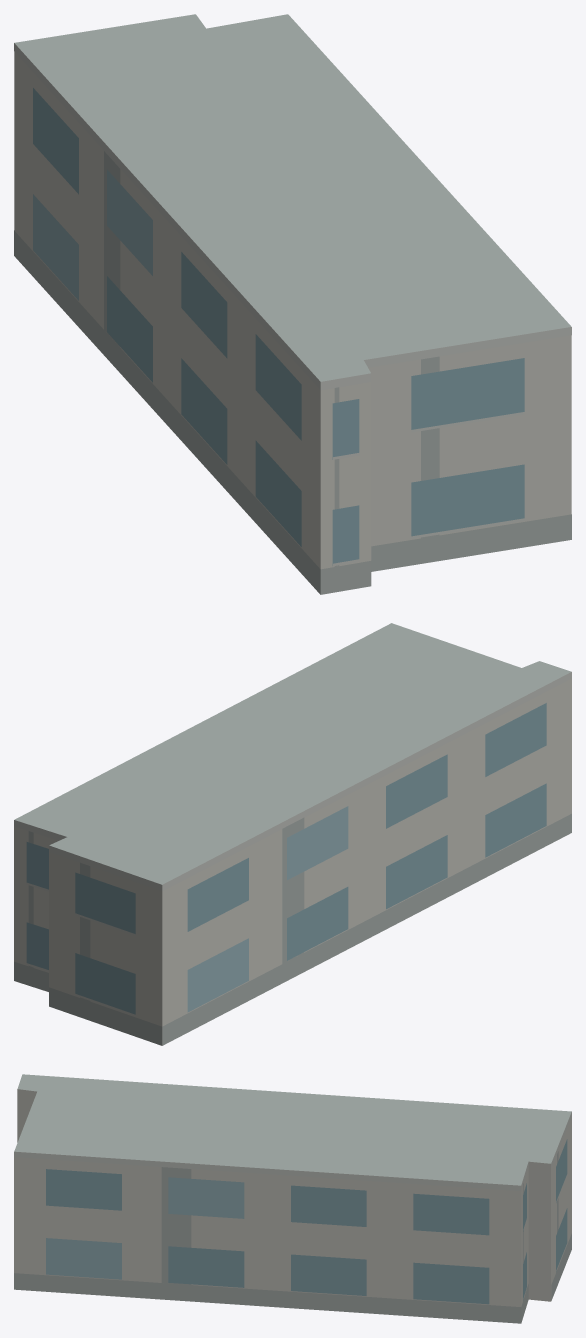
File: survey-upis-32676973.glb
3 renders of one model, top to bottom at view 1: azimuth 30°, elevation 25°; view 2: azimuth 150°, elevation 25°; view 3: azimuth 270°, elevation 25°, orthographic. The views are drawn at different scales.
Visible parts, largest first — view 1: survey-upis-32676973.tmp; view 2: survey-upis-32676973.tmp; view 3: survey-upis-32676973.tmp.
Boxes of the visible parts, left/top/right/bottom form: survey-upis-32676973.tmp: left=14, top=14, right=571, bottom=594; survey-upis-32676973.tmp: left=14, top=623, right=571, bottom=1045; survey-upis-32676973.tmp: left=14, top=1074, right=571, bottom=1323.
Bounding box in the file's own units: 10.58 × 6.1 × 22.36.
